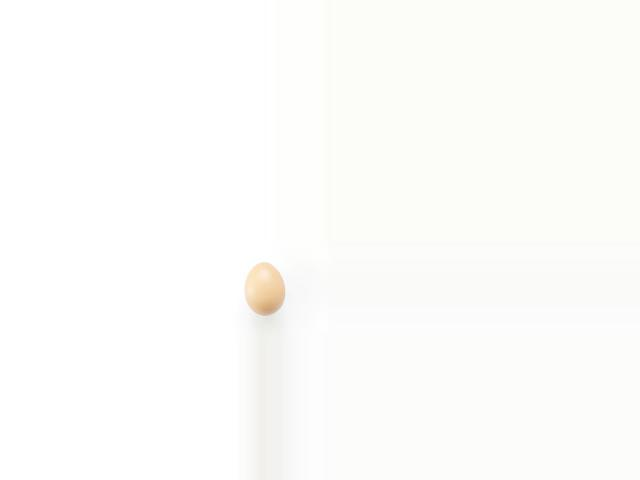egg: (245, 261, 286, 316)
